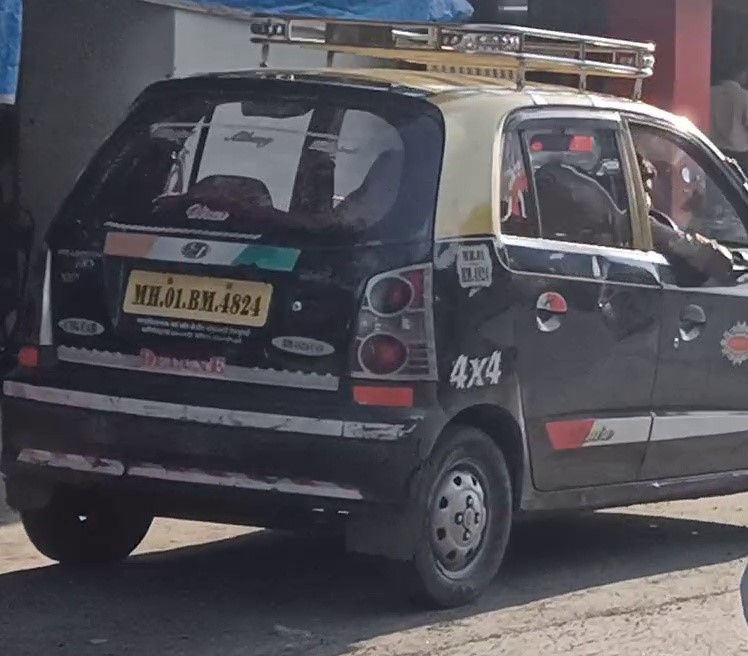MH01BM4824: (122, 265, 272, 325)
